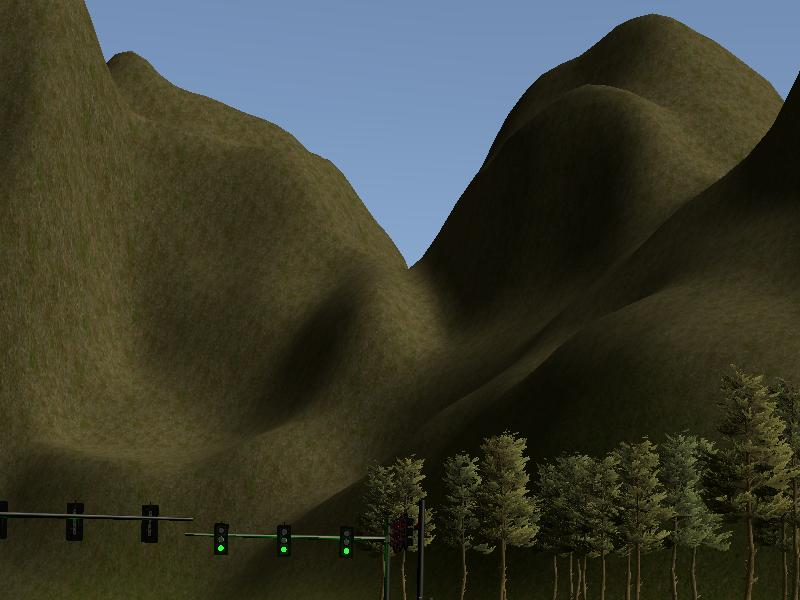Green: (216, 523, 228, 554), (340, 527, 352, 556), (279, 525, 288, 555)
